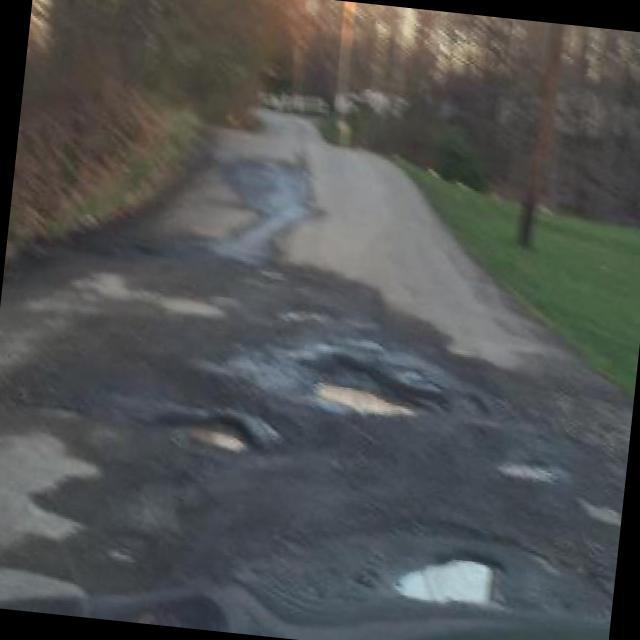Pothole: (393, 557, 504, 604), (191, 407, 281, 457), (313, 382, 416, 421), (498, 467, 559, 484)
